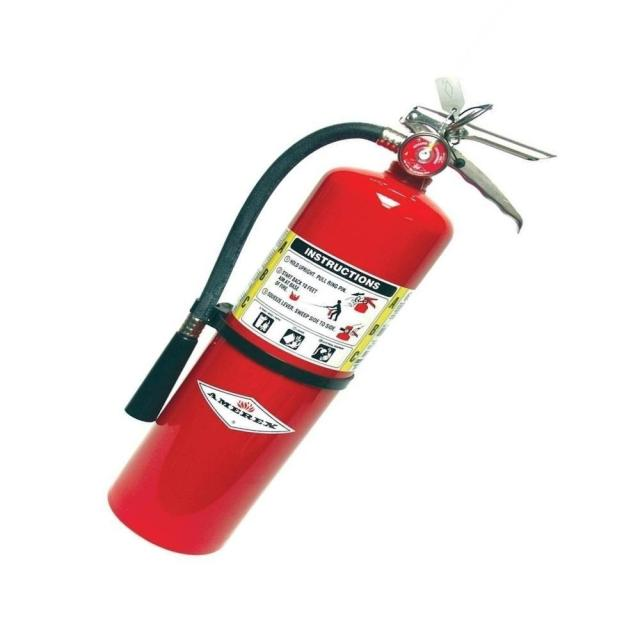fire_extinguisher: (98, 70, 560, 560)
